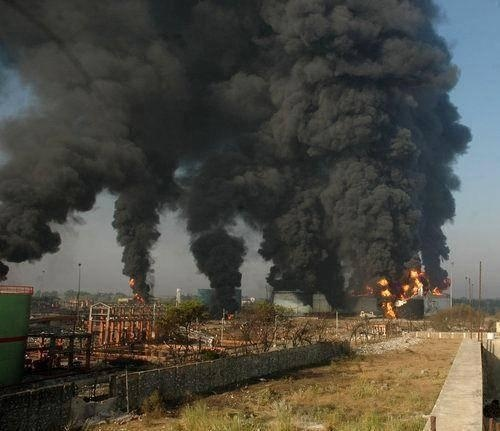fire: (368, 266, 440, 317), (129, 276, 144, 302)
